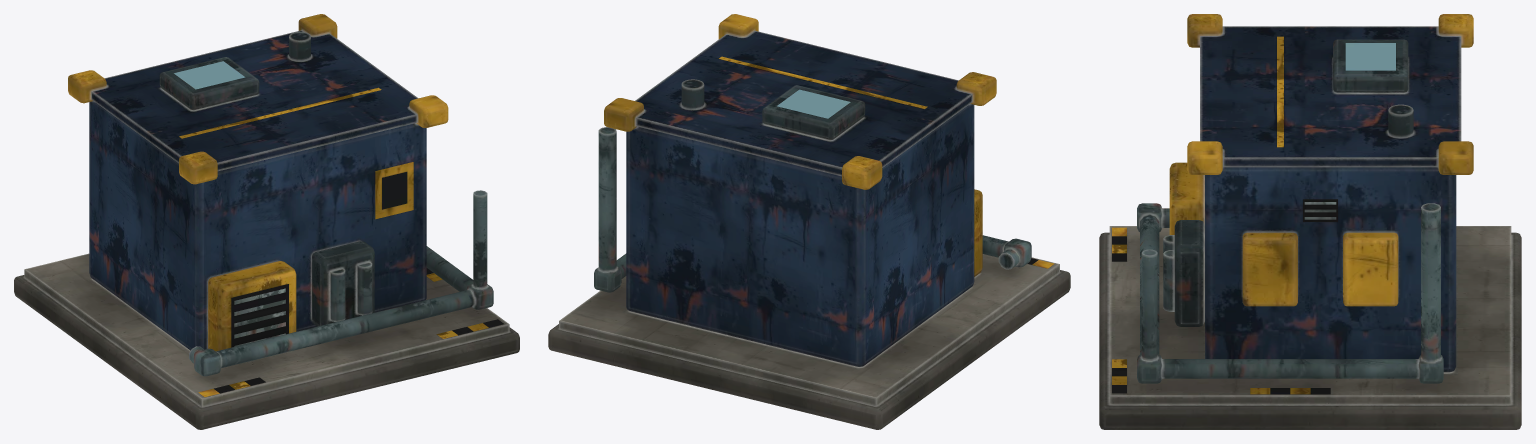
The model's file is life_support.glb.
3 renders of one model, left to right at view 1: azimuth 30°, elevation 25°; view 2: azimuth 150°, elevation 25°; view 3: azimuth 270°, elevation 25°, orthographic. The views are drawn at different scales.
Parts seen in each view (by area): view 1: te_life_support; view 2: te_life_support; view 3: te_life_support.
Boxes of the visible parts, x1,y1,x2,y2 form: te_life_support: (14, 14, 519, 429); te_life_support: (548, 14, 1070, 429); te_life_support: (1099, 14, 1521, 429).
Bounding box in the file's own units: 0.84 × 0.6 × 0.84.
Materials: 1 (1 with a texture image).
